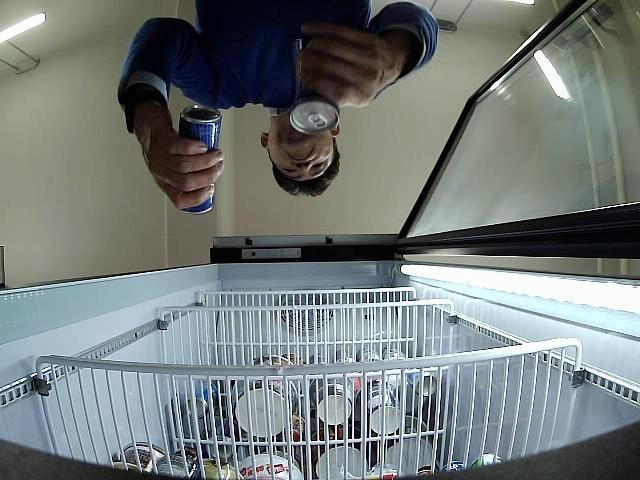16_hot6: (289, 31, 339, 136), (178, 104, 222, 215)
